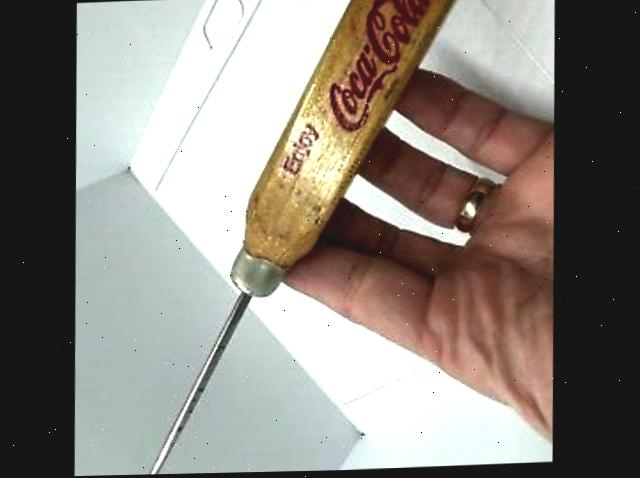ice pick: (118, 0, 483, 476)
